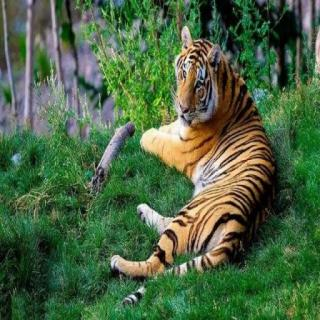Tiger: (100, 29, 288, 287)
